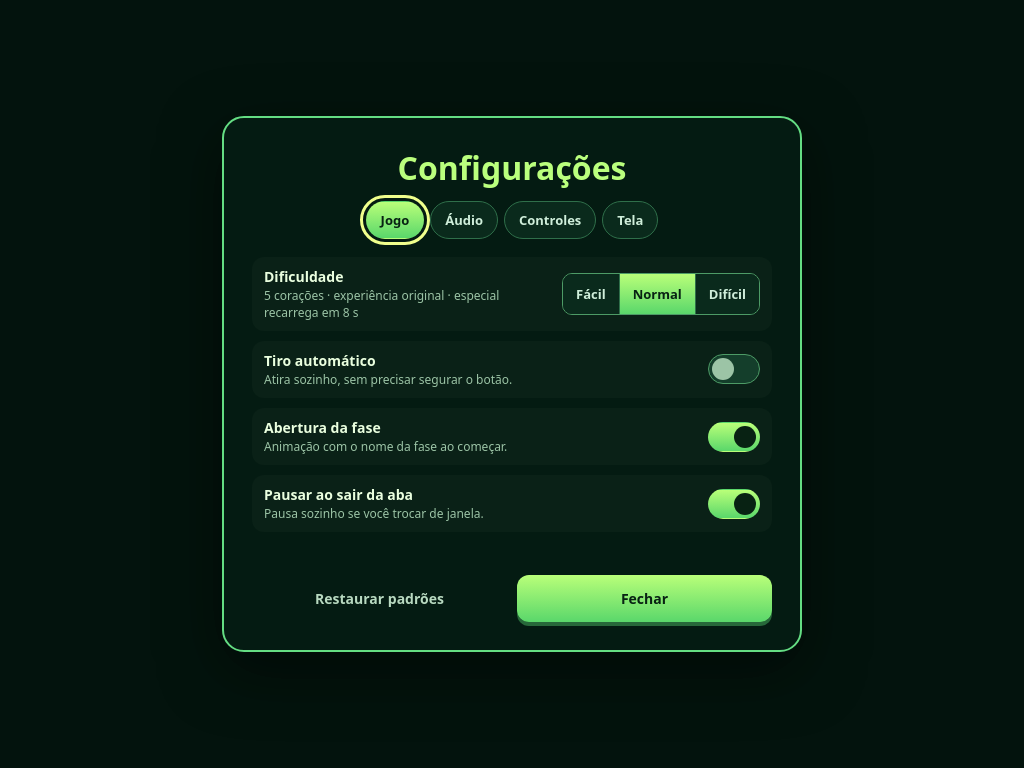
Test: janela de configurações › Restaurar padrões pede confirmação e zera tudo
This screenshot has width=1024, height=768.
Step 1. Click the button "Difícil" → (727, 294), box left=696, top=274, right=759, bottom=314
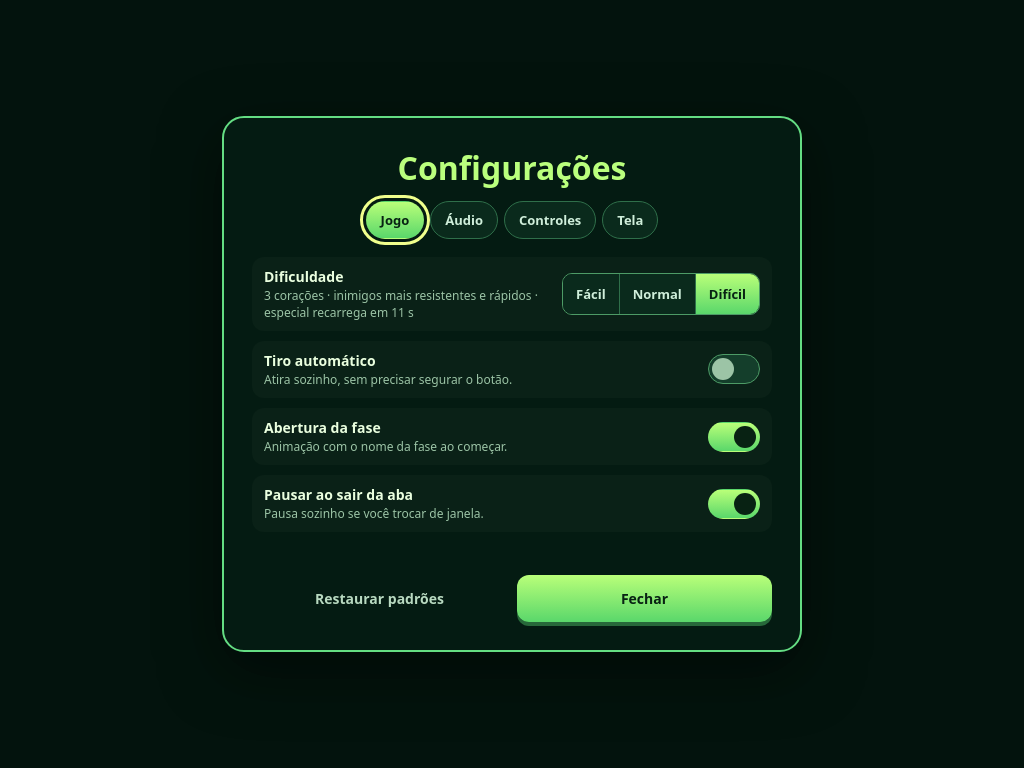
Step 2. Click the button "Restaurar padrões" → (380, 598), box left=252, top=575, right=507, bottom=622
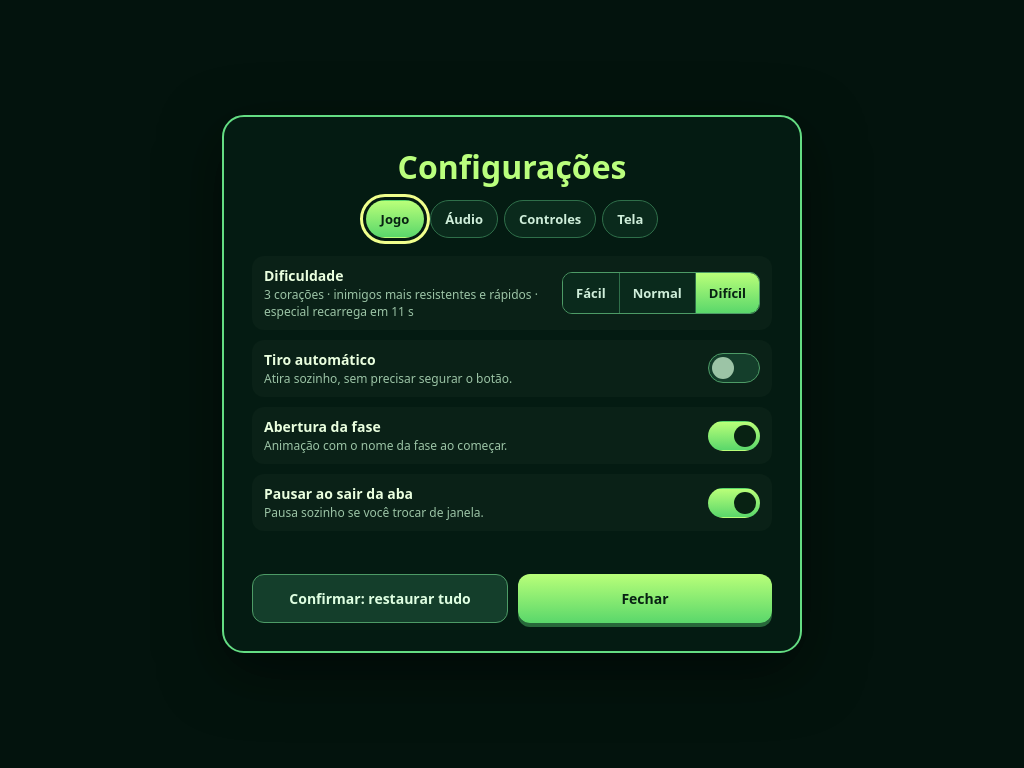
Step 3. Click the button "Confirmar: restaurar tudo" → (380, 598), box left=252, top=574, right=508, bottom=623
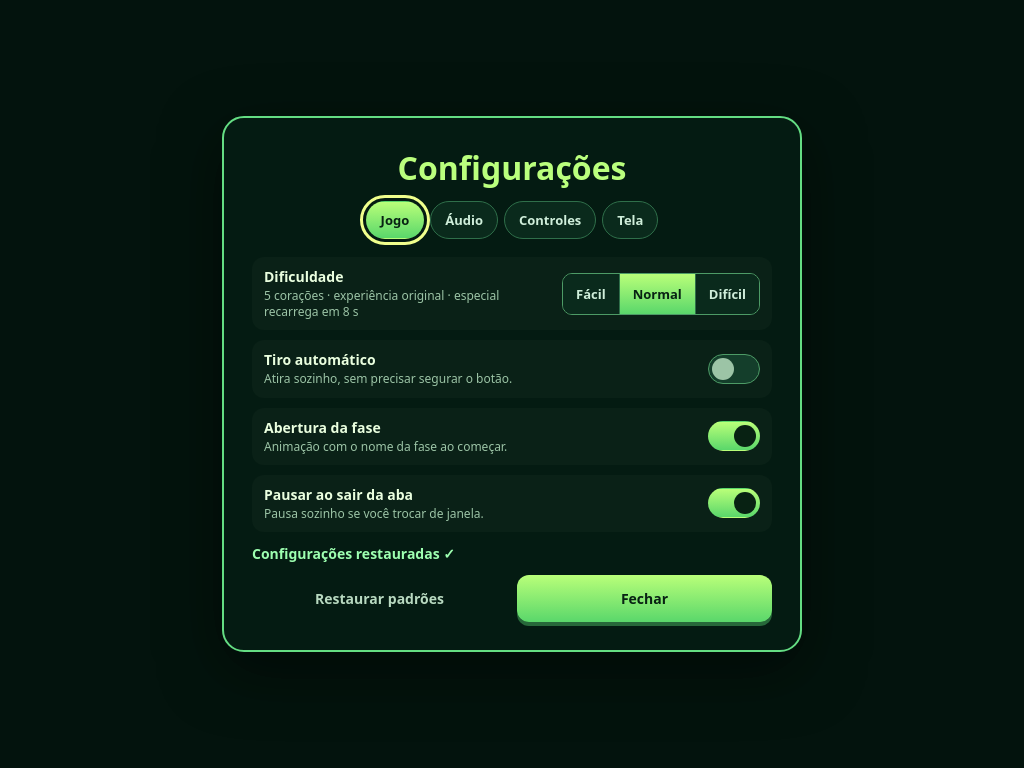
Check: the text "Configurações restauradas" is shown, box left=252, top=544, right=455, bottom=563
